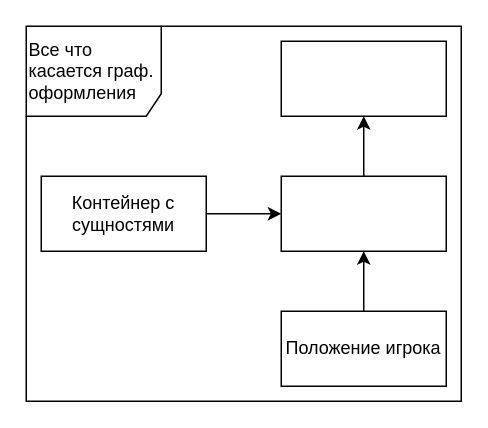
The diagram is 488 pixels wide and 428 high, and some of its shapes have lost their labels. Each missing label, with the centre of its shape:
"Картинка" goes at pixel 363 78.
"Обработчик" goes at pixel 363 213.
